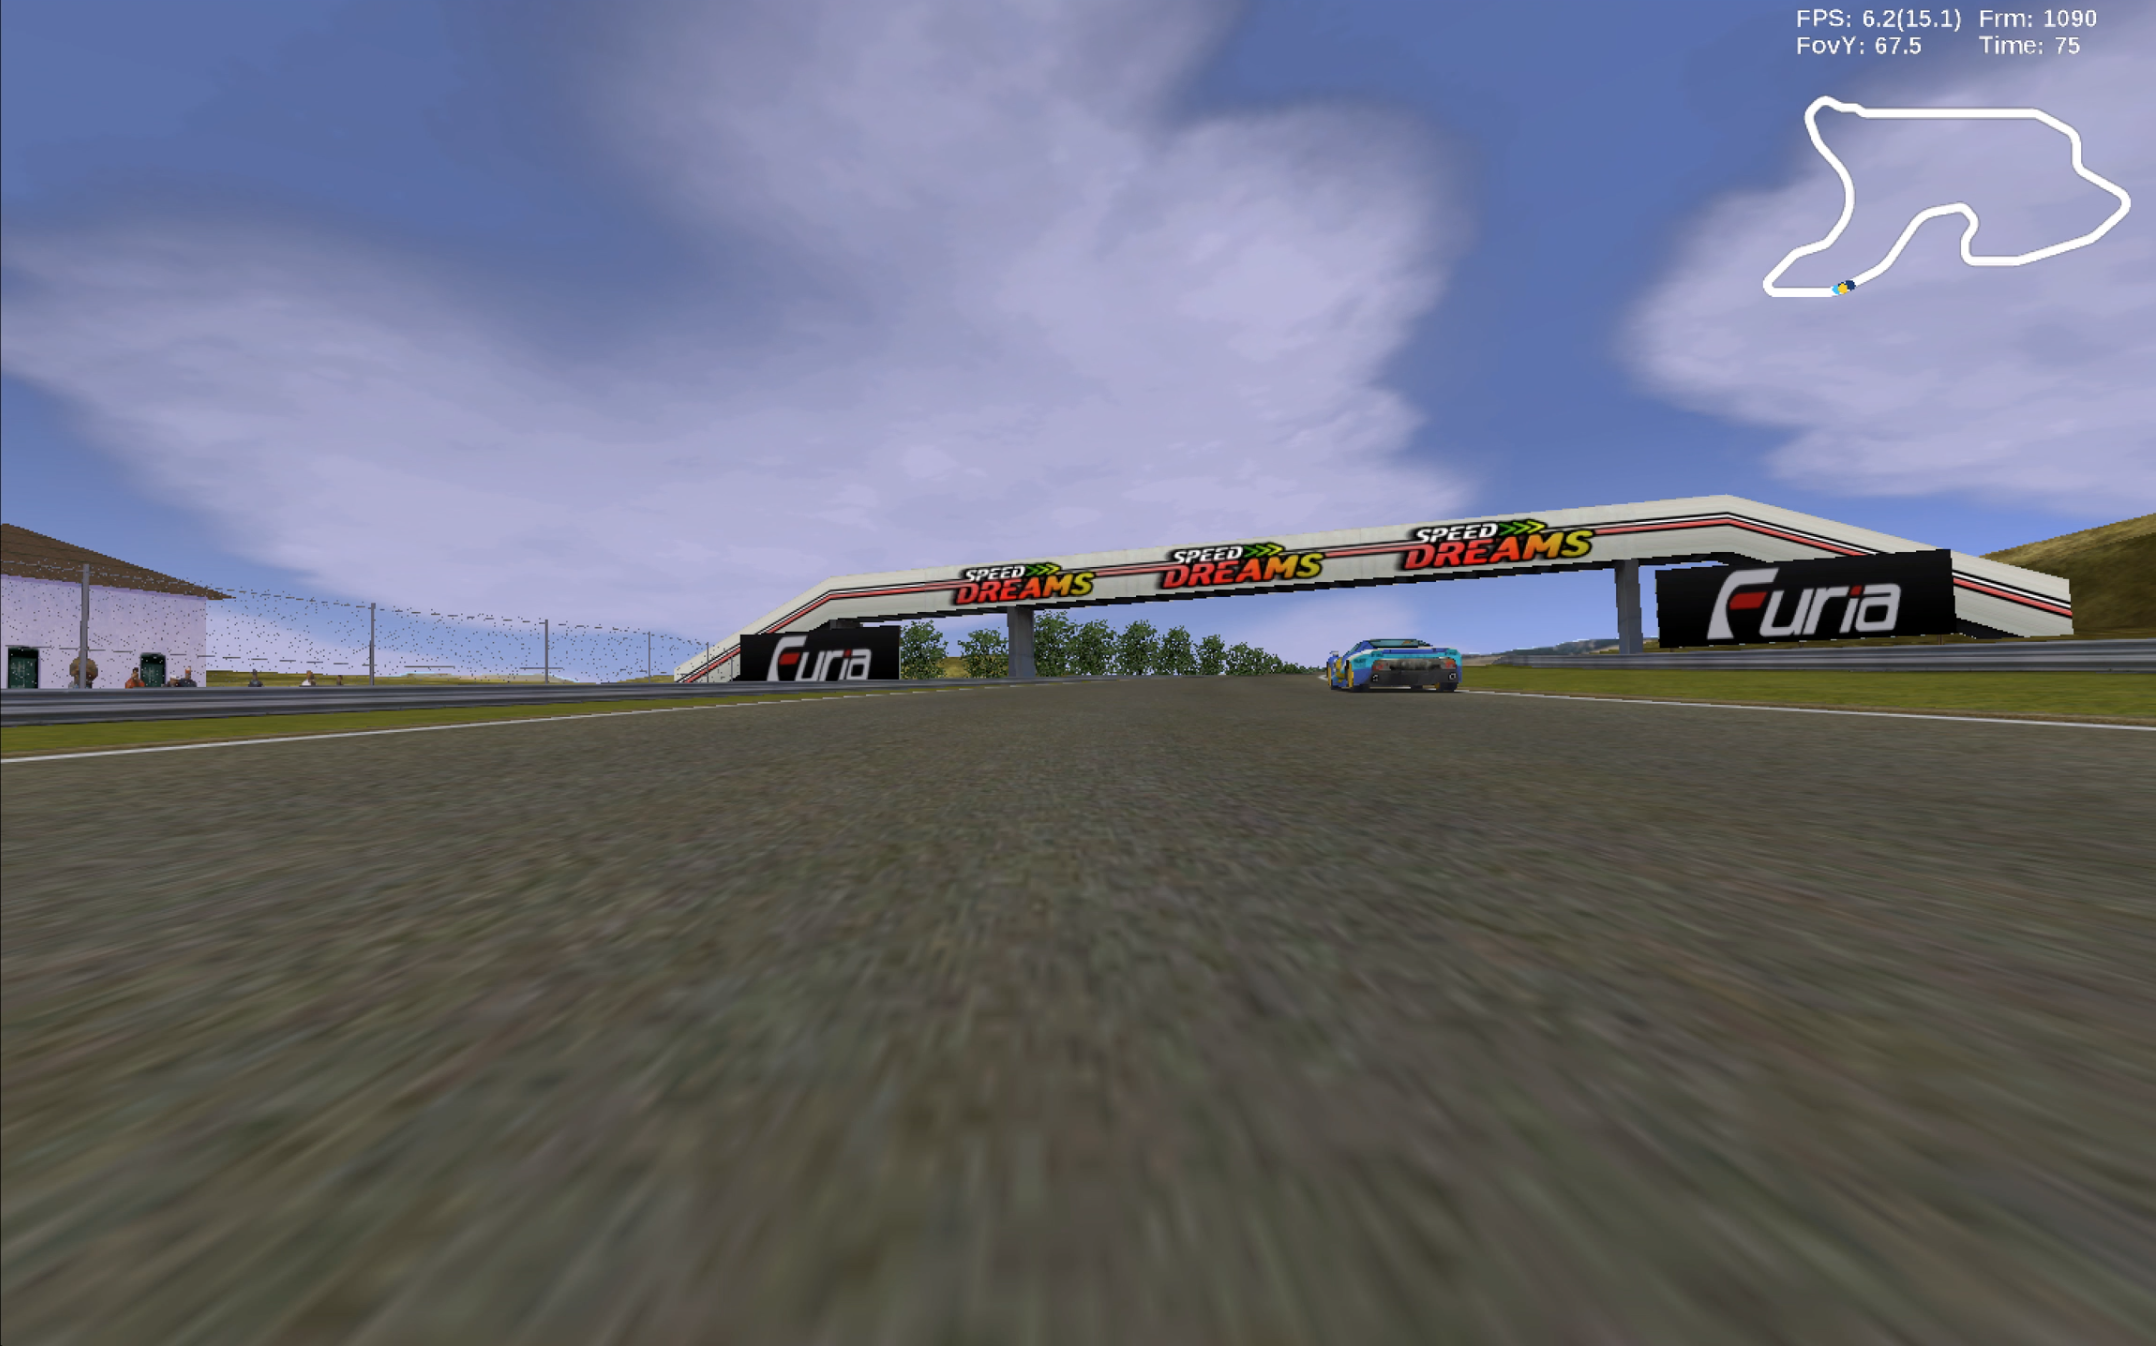Lynx220: (1327, 634, 1462, 696)
